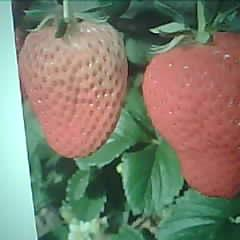straw-ripe: (142, 33, 240, 199), (19, 19, 129, 157)
